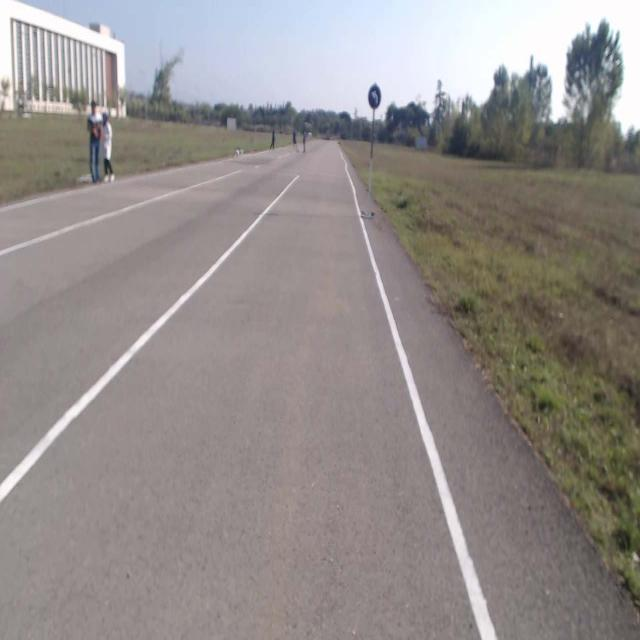sol: (368, 85, 382, 108)
